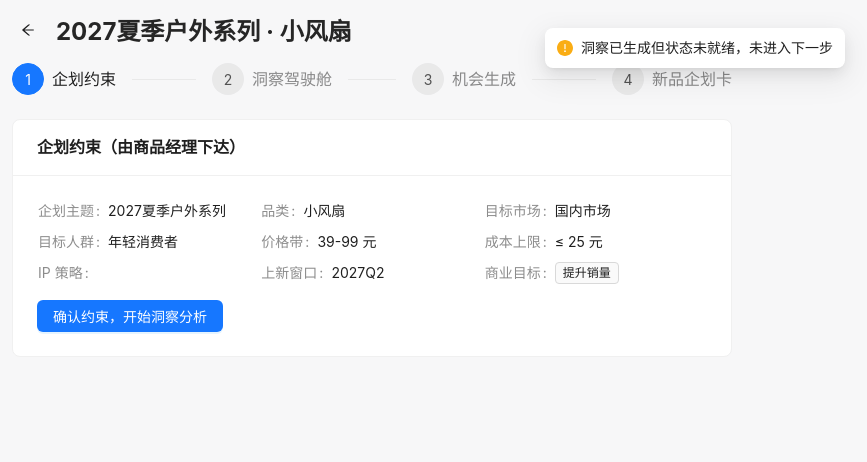
Test case: TaskFlow · 洞察生成失败可见性 › 失败不跳步，并展示 code + message 错误卡片
Step 1. Click the button "确认约束，开始洞察分析" → (130, 316), box top-left (37, 300), bottom-right (223, 332)
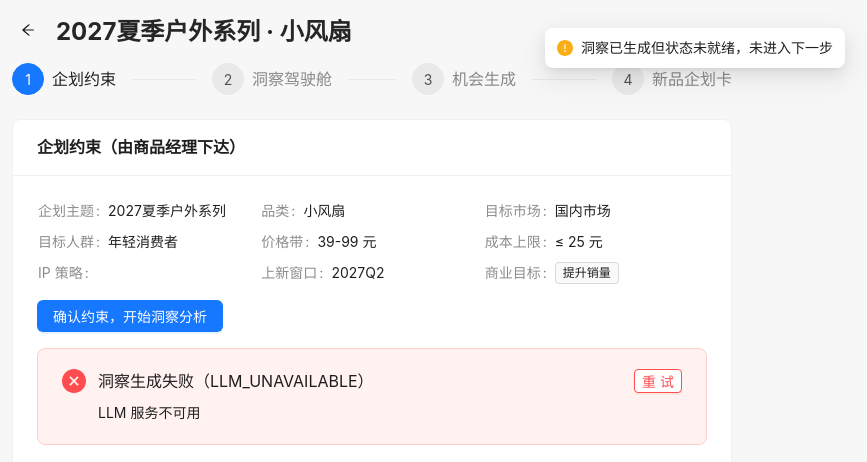
Expected: the text "确认约束，开始洞察分析" is shown, top-left (53, 306), bottom-right (207, 326)
Now the text "洞察生成失败（LLM_UNAVAILABLE）" is shown, box top-left (98, 371), bottom-right (374, 391)
Now the text "LLM 服务不可用" is shown, box top-left (98, 404), bottom-right (200, 421)
